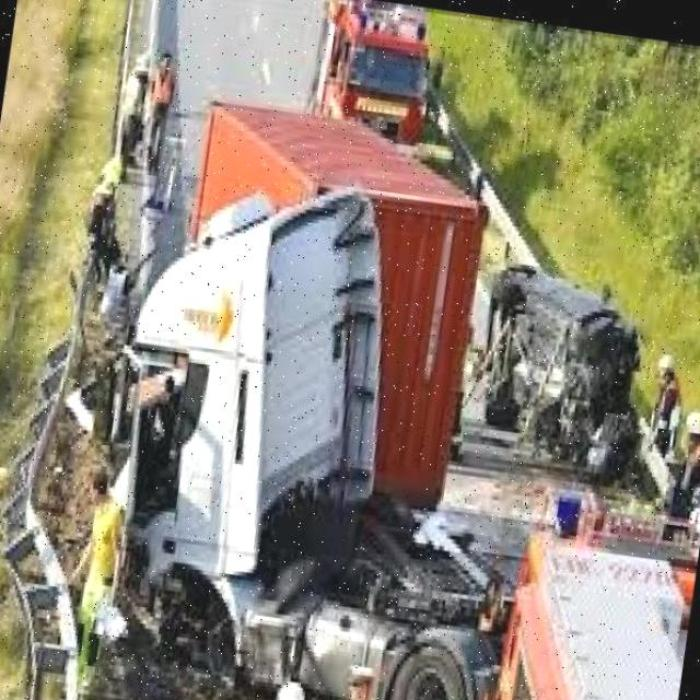Accident: (17, 180, 395, 699), (458, 221, 672, 494)
